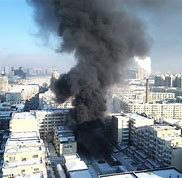smoke: (45, 1, 147, 143)
